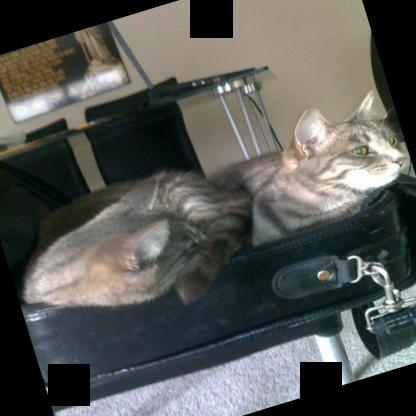suitcase: (0, 159, 416, 413)
